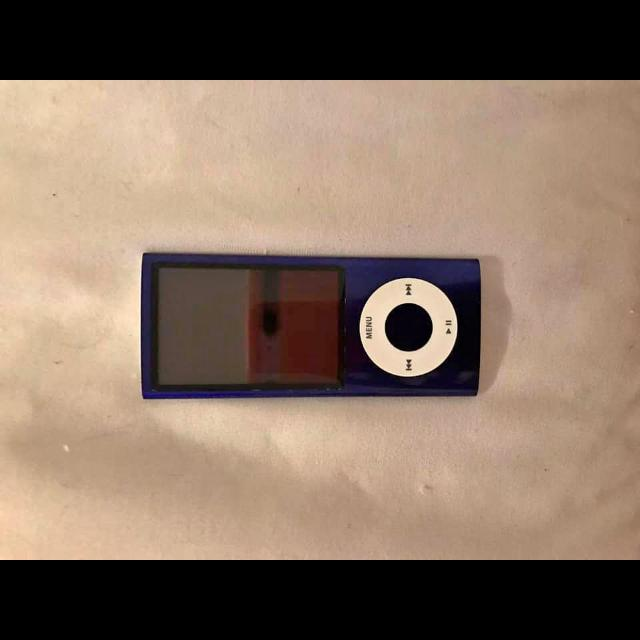Music-Player: (131, 247, 487, 408)
